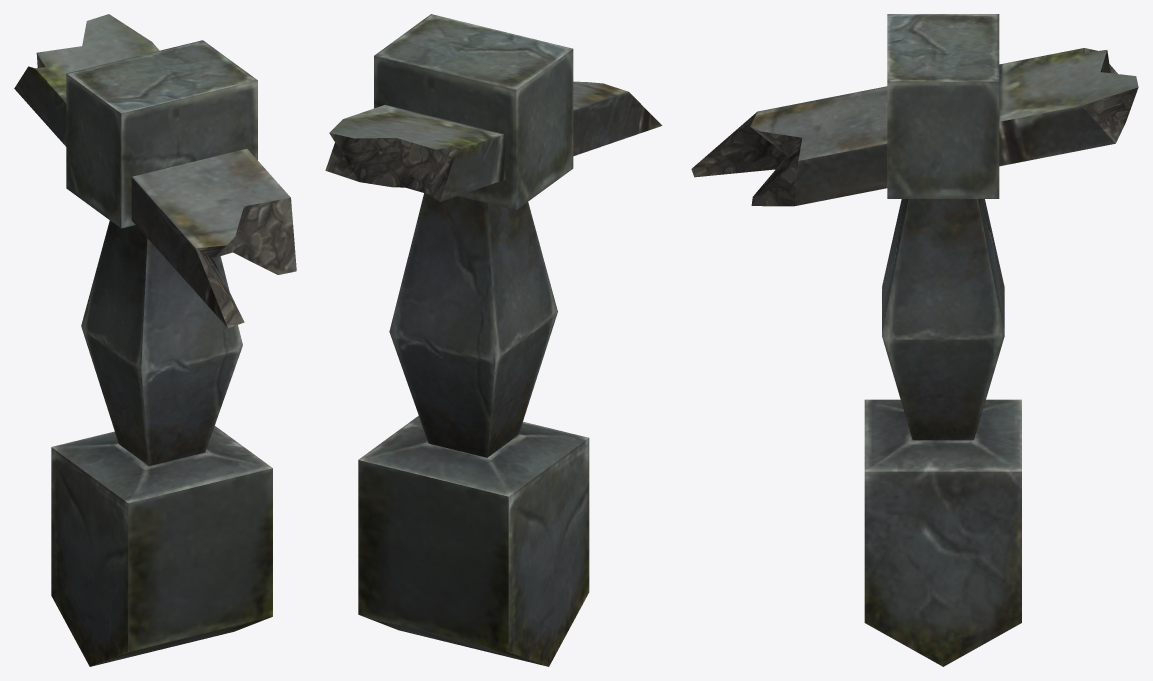
Rendered from F_fushou015.fbx.
3 views of the same model, side by side, from view 1: azimuth 30°, elevation 25°; view 2: azimuth 150°, elevation 25°; view 3: azimuth 270°, elevation 25° (orthographic). The views are drawn at different scales.
Parts seen in each view (by area): view 1: F_fushou015; view 2: F_fushou015; view 3: F_fushou015.
Boxes of the visible parts, x1=… form: F_fushou015: x1=14, y1=14, x2=296, y2=666; F_fushou015: x1=325, y1=14, x2=662, y2=666; F_fushou015: x1=691, y1=14, x2=1138, y2=666.
Size of the model in its own units: 37.26 by 141 by 98.
